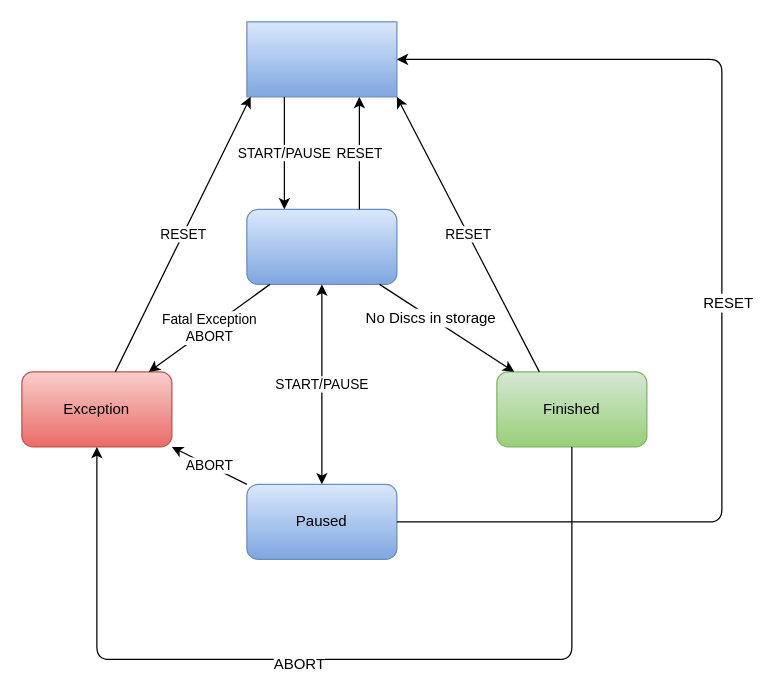
Some shapes in this 774 by 694 pixel diagram are drawn without their labels. Each missing label, with the centre of its shape:
Operating: (x=321, y=246)
Resting: (x=321, y=59)
